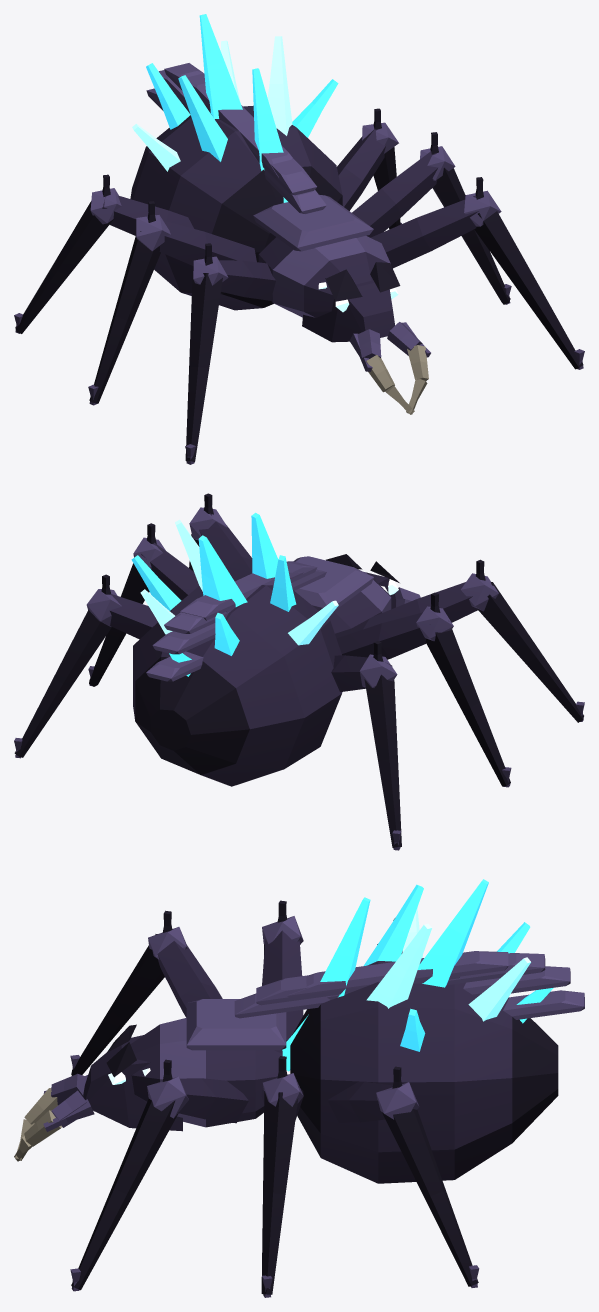
Rendered from mite.glb.
The picture shows the model from 3 angles, top to bottom: view 1: azimuth 30°, elevation 25°; view 2: azimuth 150°, elevation 25°; view 3: azimuth 270°, elevation 25°; orthographic projection. The views are drawn at different scales.
Visible parts, largest first — view 1: body, head, legL1, shinR1, legL2, shinL1, shinR2, legR2, legL3, shinR3, legR1, legR3 (+4 smaller); view 2: body, shinR2, shinR3, legR2, shinL3, shinR1, legR1, legL1, legL3, legL2, legR3, shinL2 (+1 smaller); view 3: body, shinL1, head, shinL2, shinL3, legL1, legR1, shinR1, legL3, legR2, mandR, mandL (+1 smaller).
Boxes of the visible parts, <box> form: body: <box>130,14,390,317</box>; head: <box>302,262,430,371</box>; legL1: <box>370,177,501,268</box>; shinR1: <box>185,273,222,464</box>; legL2: <box>352,132,455,237</box>; shinL1: <box>474,211,584,369</box>; shinR2: <box>88,231,160,405</box>; legR2: <box>136,201,256,265</box>; legL3: <box>337,108,398,210</box>; shinR3: <box>14,201,114,333</box>; legR1: <box>193,243,275,300</box>; legR3: <box>90,174,193,235</box>; body: <box>131,512,391,786</box>; shinR2: <box>425,629,511,787</box>; shinR3: <box>364,674,401,850</box>; legR2: <box>336,592,453,659</box>; shinL3: <box>14,610,111,758</box>; shinR1: <box>477,582,584,722</box>; legR1: <box>363,559,498,629</box>; legL1: <box>189,493,252,581</box>; legL3: <box>86,574,157,639</box>; legL2: <box>133,523,198,600</box>; legR3: <box>331,641,397,691</box>; shinL2: <box>88,563,149,686</box>; body: <box>130,879,584,1183</box>; shinL1: <box>70,1098,179,1291</box>; head: <box>43,1024,182,1131</box>; shinL2: <box>261,1091,298,1297</box>; shinL3: <box>382,1109,479,1287</box>; legL1: <box>147,1059,248,1123</box>; legR1: <box>148,910,222,1017</box>; shinR1: <box>70,934,164,1075</box>; legL3: <box>327,1066,419,1122</box>; legR2: <box>262,900,303,1041</box>; mandR: <box>15,1073,86,1160</box>; mandL: <box>14,1090,86,1161</box>.
Bounding box in the file's own units: 1.43 × 0.8747 × 1.49.
